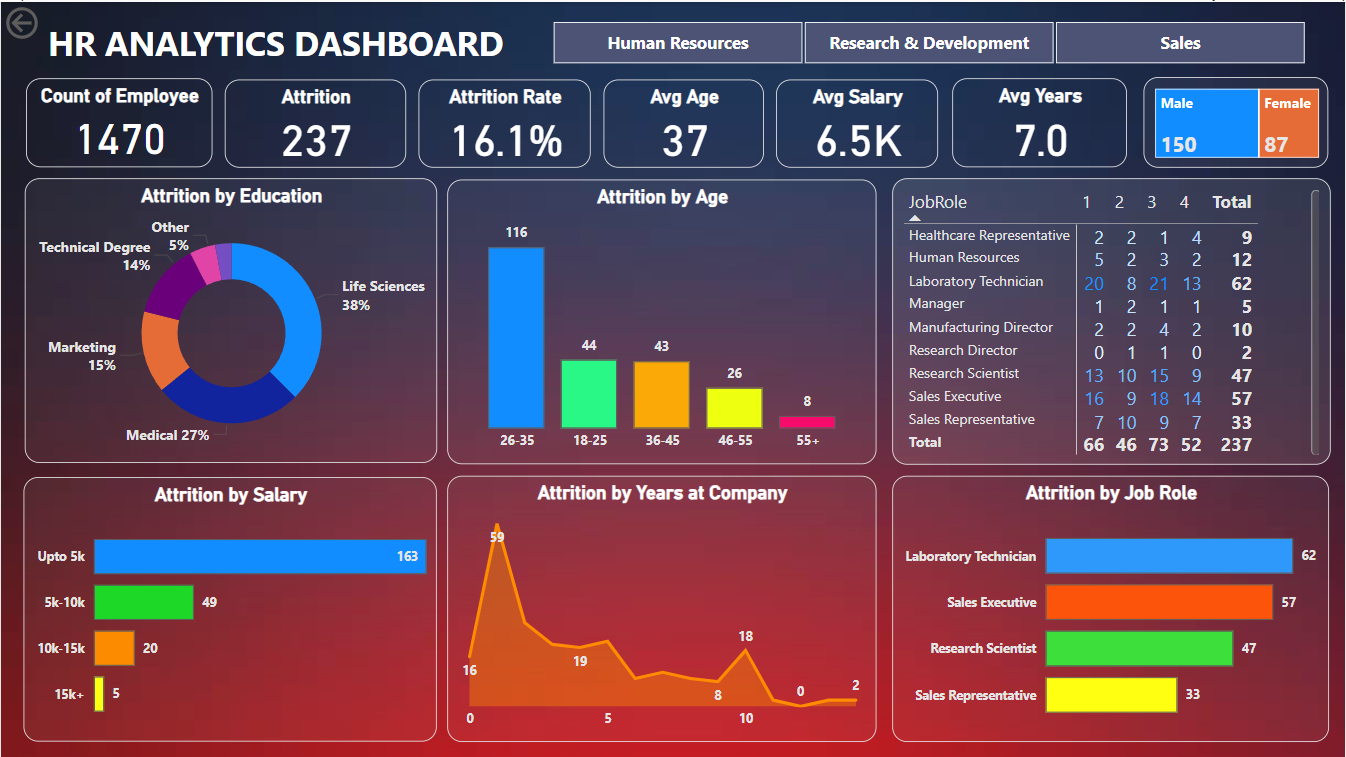

This screenshot's page, from the dashboard's own definition file:
{"tool":"powerbi","page":{"name":"Page 1","canvas":[1280,720],"ordinal":0},"visuals":[{"type":"card","title":"Count of Employee","fields":{"Values":["Sum(HR_Analytics.EmployeeCount)"]},"box":[24.3,72.9,177.5,85.1],"z":0},{"type":"card","title":"Attrition","fields":{"Values":["Sum(HR_Analytics.AttritionCount)"]},"box":[212.8,74.2,172.6,83.9],"z":1000},{"type":"card","title":"Attrition Rate","fields":{"Values":["HR_Analytics.AttritionRate"]},"box":[397.6,74.2,164.1,83.9],"z":2000},{"type":"card","title":"Avg Age","fields":{"Values":["Avg(HR_Analytics.Age)"]},"box":[573.9,74.2,153.2,83.9],"z":3000},{"type":"card","title":"Avg Salary","fields":{"Values":["Avg(HR_Analytics.MonthlyIncome)"]},"box":[738,74.2,154.4,83.9],"z":4000},{"type":"actionButton","box":[0,0,100,40],"z":5000},{"type":"card","title":"Avg Years","fields":{"Values":["Avg(HR_Analytics.YearsAtCompany)"]},"box":[905.8,72.9,166.6,85.1],"z":6000},{"type":"donutChart","title":"Attrition by Education","fields":{"Category":["HR_Analytics.EducationField"],"Y":["Sum(HR_Analytics.AttritionCount)"]},"box":[23.1,167.8,392.7,271.1],"z":7000},{"type":"clusteredColumnChart","title":"Attrition by Age","fields":{"Y":["Sum(HR_Analytics.AttritionCount)"],"Category":["HR_Analytics.AgeGroup"]},"box":[425,168.8,408.8,271.2],"z":8000},{"type":"pivotTable","fields":{"Rows":["HR_Analytics.JobRole"],"Columns":["HR_Analytics.JobSatisfaction"],"Values":["Sum(HR_Analytics.AttritionCount)"]},"box":[848.8,167.5,417.5,272.5],"z":9000},{"type":"barChart","title":"Attrition by Salary","fields":{"Category":["HR_Analytics.SalarySlab"],"Y":["Sum(HR_Analytics.AttritionCount)"]},"box":[21.7,452.8,393.5,251.7],"z":10000},{"type":"barChart","title":"Attrition by Job Role","fields":{"Category":["HR_Analytics.JobRole"],"Y":["Sum(HR_Analytics.AttritionCount)"]},"box":[848.8,451.2,416.2,253.8],"z":11000},{"type":"areaChart","title":"Attrition by Years at Company","fields":{"Category":["HR_Analytics.YearsAtCompany"],"Y":["Sum(HR_Analytics.AttritionCount)"]},"box":[425,451.2,408.8,253.8],"z":12000},{"type":"treemap","title":"Attrition by Age","fields":{"Group":["HR_Analytics.Gender"],"Values":["Sum(HR_Analytics.AttritionCount)"]},"box":[1088.1,71.7,176.3,86.3],"z":13000},{"type":"slicer","fields":{"Values":["HR_Analytics.Department"]},"box":[499.7,12.2,766,53.5],"z":14000},{"type":"textbox","box":[24.3,12.2,475.4,53.5],"z":15000}]}

Visuals, with their boxes in screenshot pixels (x1, y1, x2, y2), scaled from the page's 1280x720 canvas onto the 1346x757 screenshot:
"Count of Employee" card: locate(26, 77, 212, 166)
"Attrition" card: locate(224, 78, 405, 166)
"Attrition Rate" card: locate(418, 78, 591, 166)
"Avg Age" card: locate(603, 78, 765, 166)
"Avg Salary" card: locate(776, 78, 938, 166)
actionButton: locate(0, 0, 105, 42)
"Avg Years" card: locate(953, 77, 1128, 166)
"Attrition by Education" donutChart: locate(24, 176, 437, 461)
"Attrition by Age" clusteredColumnChart: locate(447, 177, 877, 463)
pivotTable - HR_Analytics.JobRole x HR_Analytics.JobSatisfaction: locate(893, 176, 1332, 463)
"Attrition by Salary" barChart: locate(23, 476, 437, 741)
"Attrition by Job Role" barChart: locate(893, 474, 1330, 741)
"Attrition by Years at Company" areaChart: locate(447, 474, 877, 741)
"Attrition by Age" treemap: locate(1144, 75, 1330, 166)
slicer - HR_Analytics.Department: locate(525, 13, 1331, 69)
textbox: locate(26, 13, 525, 69)
